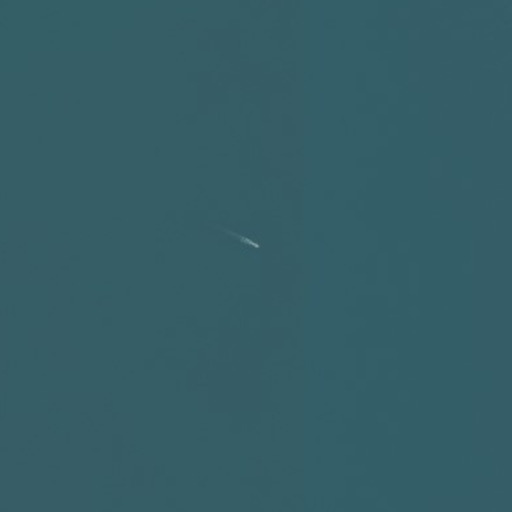ship: (239, 234, 262, 251)
